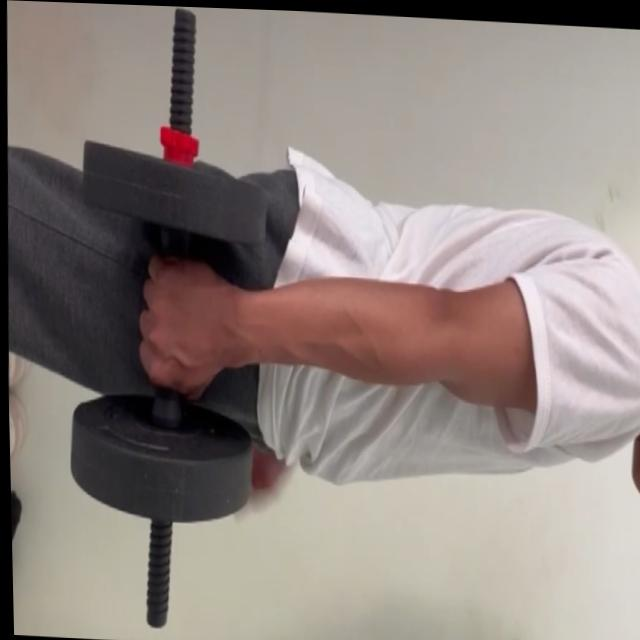hammer: (57, 134, 279, 531)
